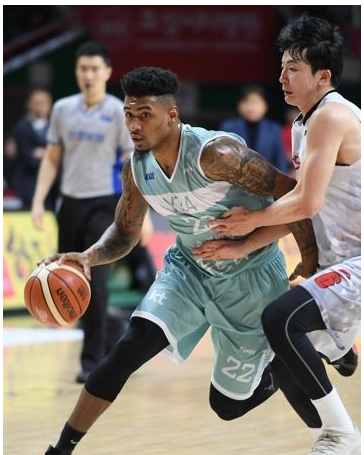ball: (15, 248, 102, 331)
breakthrough: (34, 60, 287, 453)
defense: (241, 8, 364, 455)
